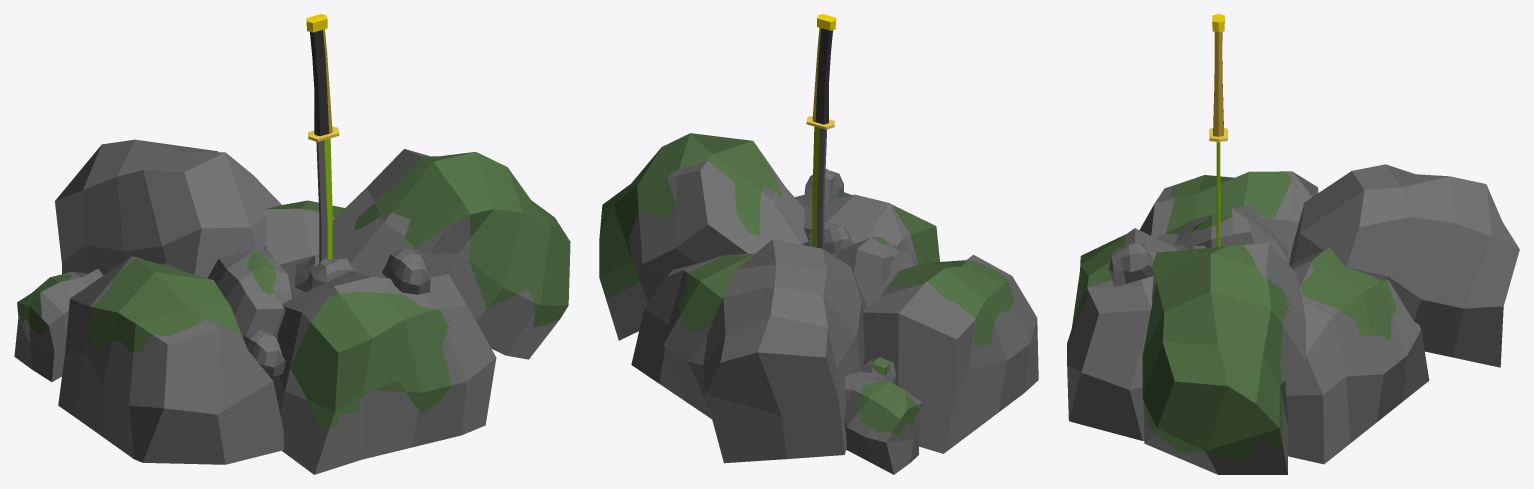
The model's file is sword on stones.fbx.
The picture shows the model from 3 angles, left to right: view 1: azimuth 30°, elevation 25°; view 2: azimuth 150°, elevation 25°; view 3: azimuth 270°, elevation 25°; orthographic projection. The views are drawn at different scales.
Visible parts, largest first — view 1: Cube.001, Cube, Cube.004, Cube.002, Cube.015, Cube.003, Cube.006, KATANA, Cube.005, Cube.011, Cube.008, Cube.013; view 2: Cube.002, Cube.001, Cube.004, Cube.005, Cube.003, Cube, KATANA, Cube.006, Cube.015, Cube.013, Cube.011, Cube.009; view 3: Cube.004, Cube.002, Cube.005, Cube.015, Cube.001, Cube, Cube.006, KATANA, Cube.011.
Boxes of the visible parts, x1=… form: Cube.001: x1=58, y1=256, x2=284, y2=464; Cube: x1=269, y1=270, x2=496, y2=474; Cube.004: x1=332, y1=149, x2=570, y2=359; Cube.002: x1=55, y1=139, x2=281, y2=278; Cube.015: x1=271, y1=270, x2=495, y2=474; Cube.003: x1=14, y1=269, x2=103, y2=381; Cube.006: x1=207, y1=250, x2=292, y2=340; KATANA: x1=306, y1=14, x2=339, y2=262; Cube.005: x1=263, y1=200, x2=344, y2=296; Cube.011: x1=382, y1=247, x2=430, y2=294; Cube.008: x1=244, y1=329, x2=285, y2=376; Cube.013: x1=307, y1=258, x2=356, y2=289; Cube.002: x1=703, y1=239, x2=867, y2=463; Cube.001: x1=863, y1=255, x2=1038, y2=453; Cube.004: x1=599, y1=133, x2=808, y2=340; Cube.005: x1=631, y1=253, x2=755, y2=418; Cube.003: x1=843, y1=372, x2=922, y2=474; Cube: x1=795, y1=194, x2=939, y2=264; KATANA: x1=806, y1=14, x2=836, y2=249; Cube.006: x1=836, y1=237, x2=918, y2=307; Cube.015: x1=796, y1=192, x2=939, y2=264; Cube.013: x1=809, y1=222, x2=851, y2=253; Cube.011: x1=804, y1=169, x2=844, y2=204; Cube.009: x1=861, y1=357, x2=896, y2=384; Cube.004: x1=1142, y1=243, x2=1305, y2=474; Cube.002: x1=1289, y1=164, x2=1519, y2=367; Cube.005: x1=1285, y1=247, x2=1429, y2=464; Cube.015: x1=1067, y1=229, x2=1188, y2=440; Cube.001: x1=1139, y1=171, x2=1318, y2=261; Cube: x1=1069, y1=228, x2=1169, y2=437; Cube.006: x1=1174, y1=205, x2=1288, y2=261; KATANA: x1=1209, y1=14, x2=1227, y2=246; Cube.011: x1=1108, y1=242, x2=1154, y2=286.
Size of the model in its own units: 721 by 687 by 651.
